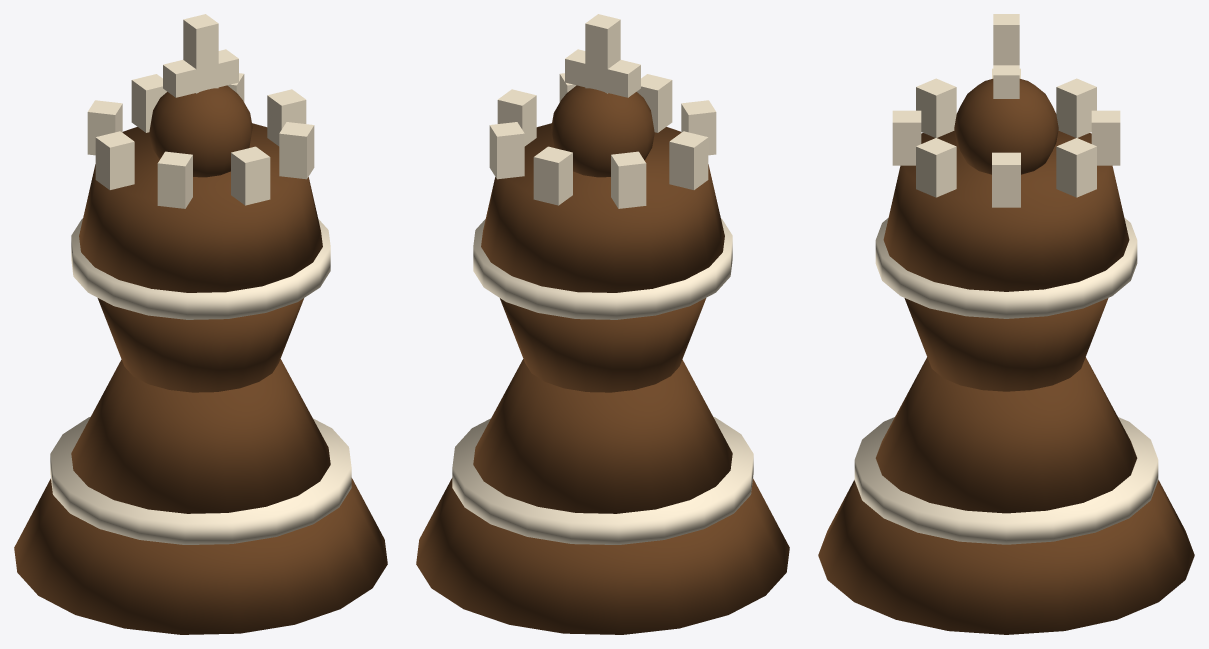
File: hero-chess-club.glb
3 renders of one model, left to right at view 1: azimuth 30°, elevation 25°; view 2: azimuth 150°, elevation 25°; view 3: azimuth 270°, elevation 25°, orthographic.
Parts seen in each view (by area): view 1: hero-chess-club; view 2: hero-chess-club; view 3: hero-chess-club.
Boxes of the visible parts, x1,y1,x2,y2 form: hero-chess-club: (14, 14, 387, 634); hero-chess-club: (416, 14, 789, 634); hero-chess-club: (818, 14, 1194, 634).
Bounding box in the file's own units: 1.44 × 2.26 × 1.44.
1 material, 1 textured.
